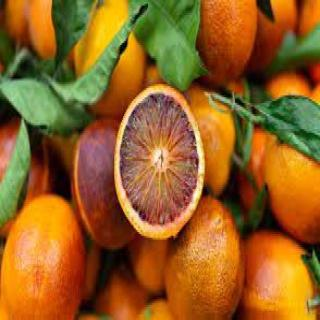orange: (109, 80, 210, 249), (162, 180, 239, 320)
